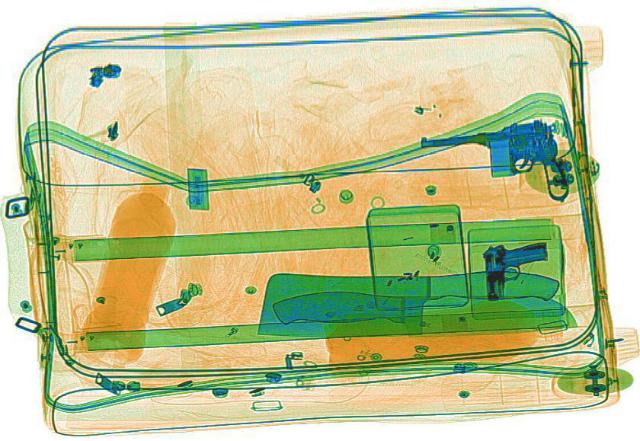Gun: (416, 118, 570, 212), (477, 240, 551, 300)
Knife: (258, 271, 558, 338), (270, 292, 578, 331)
